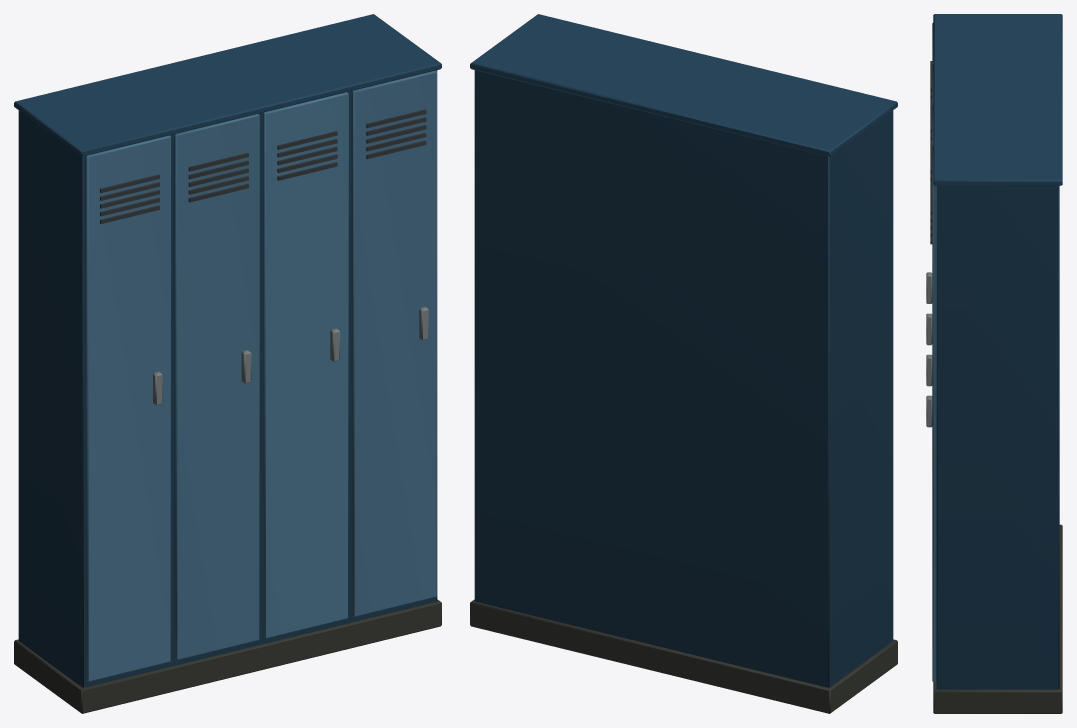
The model's file is school-locker-bank.glb.
3 renders of one model, left to right at view 1: azimuth 30°, elevation 25°; view 2: azimuth 150°, elevation 25°; view 3: azimuth 270°, elevation 25°, orthographic. The views are drawn at different scales.
Parts seen in each view (by area): view 1: body__paint, door-4__paint, door-3__paint, door-2__paint, door-1__paint, vents__steel, handles__steel; view 2: body__paint; view 3: body__paint, door-4__paint, handles__steel, vents__steel.
Part boxes in pixels (x1=…): body__paint: x1=14, y1=14, x2=441, y2=713; door-4__paint: x1=351, y1=70, x2=437, y2=616; door-3__paint: x1=263, y1=92, x2=348, y2=638; door-2__paint: x1=174, y1=114, x2=259, y2=660; door-1__paint: x1=85, y1=135, x2=170, y2=681; vents__steel: x1=100, y1=109, x2=426, y2=223; handles__steel: x1=153, y1=307, x2=428, y2=405; body__paint: x1=470, y1=14, x2=897, y2=713; body__paint: x1=933, y1=14, x2=1062, y2=713; door-4__paint: x1=932, y1=146, x2=936, y2=682; handles__steel: x1=926, y1=272, x2=932, y2=427; vents__steel: x1=930, y1=61, x2=932, y2=244.
Bounding box in the file's own units: 1.22 × 1.82 × 0.422.
